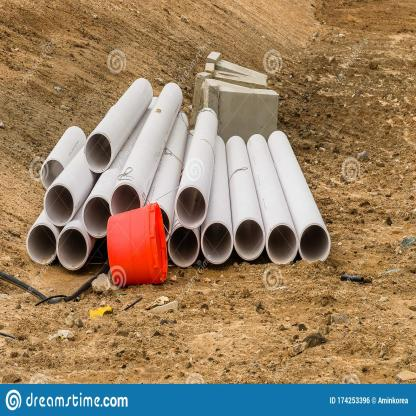PVC: (26, 77, 331, 270)
